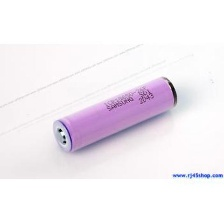battery: (49, 70, 180, 157)
